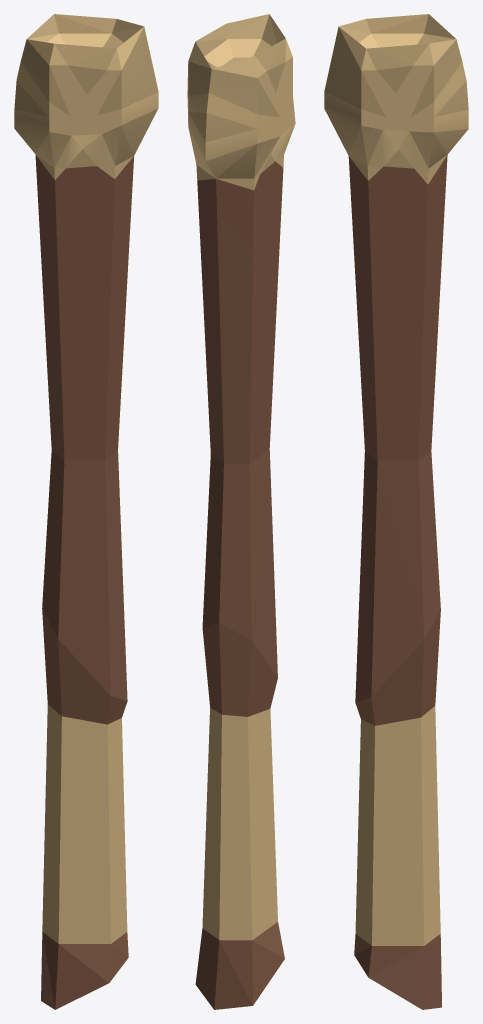
File: Torch.fbx
3 renders of one model, left to right at view 1: azimuth 90°, elevation 25°; view 2: azimuth 150°, elevation 25°; view 3: azimuth 270°, elevation 25°, orthographic.
Parts seen in each view (by area): view 1: Torch; view 2: Torch; view 3: Torch.
Part boxes in pixels (x1,y1,x2,y2): Torch: (14, 14, 158, 1009); Torch: (187, 14, 295, 1009); Torch: (324, 14, 468, 1009).
Bounding box in the file's own units: 0.0754 × 0.0576 × 0.5635.
